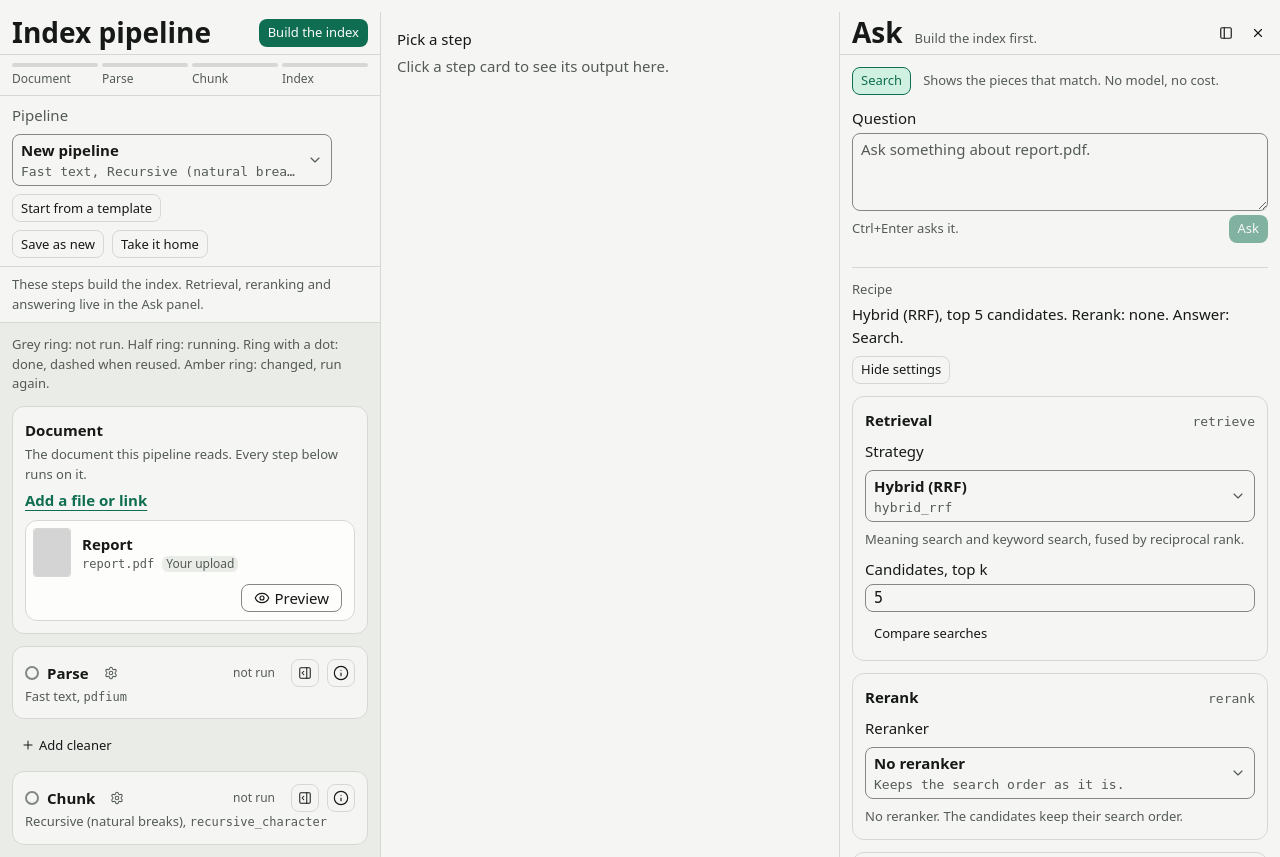
Test case: the main pane › says to pick a step until a card is clicked, then shows that step's output; there is no Back to Ask
expect the text "Pick a step" is shown: met, box [397,29,472,49]
expect the text "Click a step card to see its output here." is shown: met, box [397,56,669,76]
What coordinates should you click on to do the following:
click the element named "Chunk recursive_character"
I would click on:
 (190, 808)
Its box is [12,771,368,845].
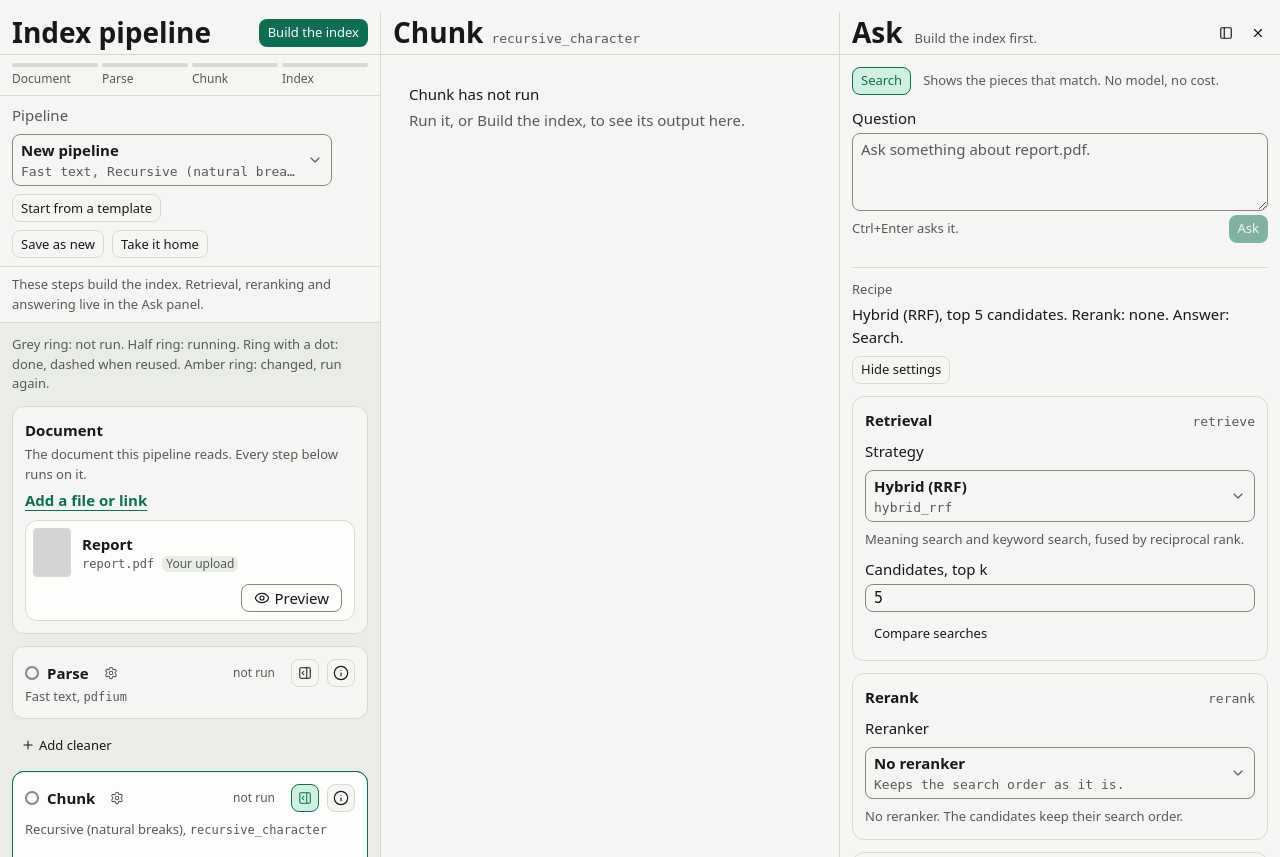
expect the text box labelled "Question" is shown: met, box [852,133,1268,211]
expect the 1st heading "Chunk" is shown: met, box [393,16,483,50]
expect the text "Pick a step" is gone: met
What coordinates should you click on to do the following:
click the element showing "Parse not run Fast text, pdfium"
I would click on:
 (190, 683)
Its box is [12,646,368,719].
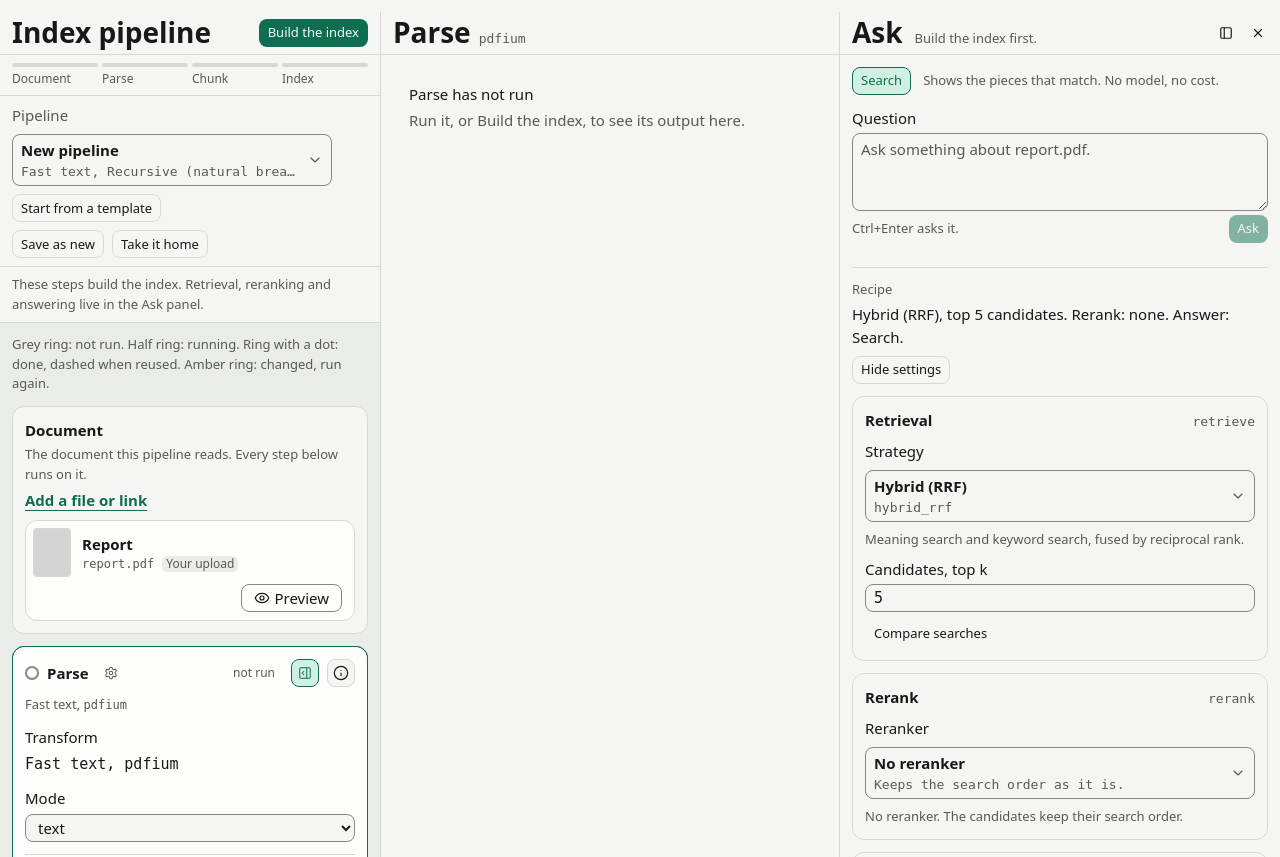
expect the 1st heading "Parse" is shown: met, box [393,16,471,50]
